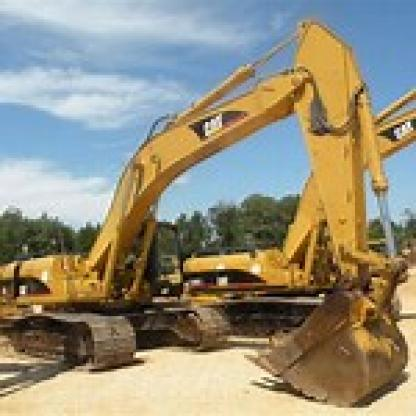excavator: (5, 0, 413, 410)
